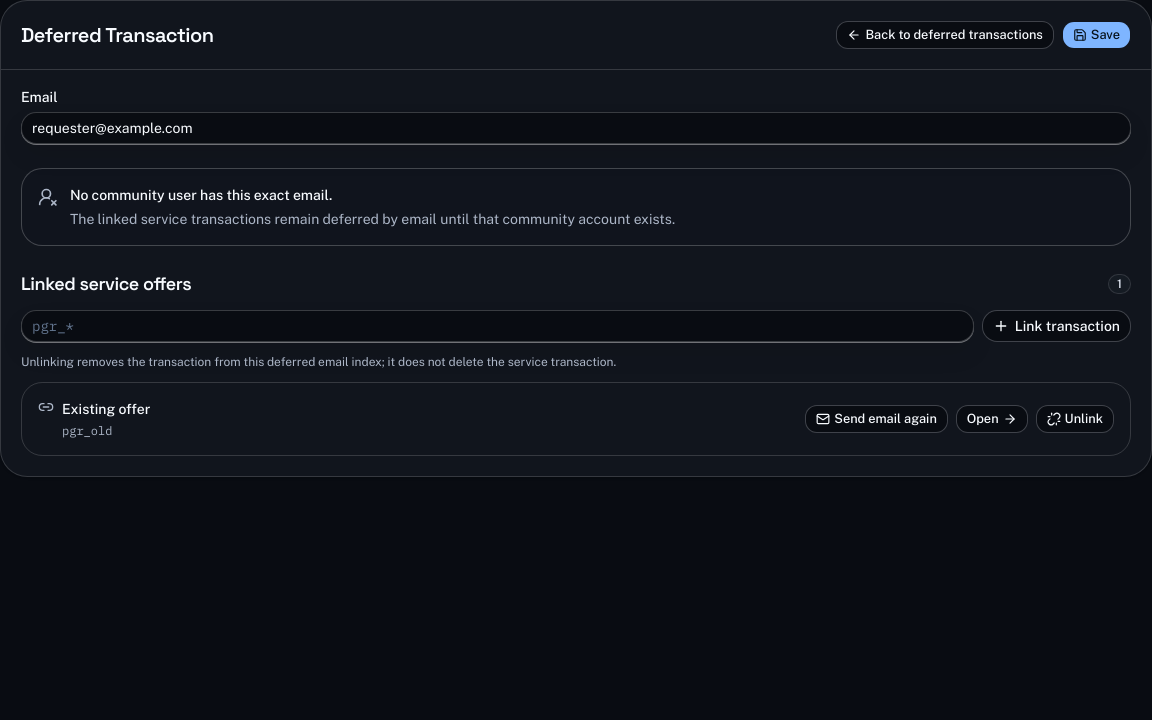
Test case: deferred service transaction workbenches › marks a newly added unsaved link until its service offer name can be loaded
Check: the text "Existing offer" is shown, box x1=62 y1=399 x2=150 y2=419
In the field with placeholder "pgr_*": (497, 326) x1=21 y1=310 x2=974 y2=342, type "pgr_new"
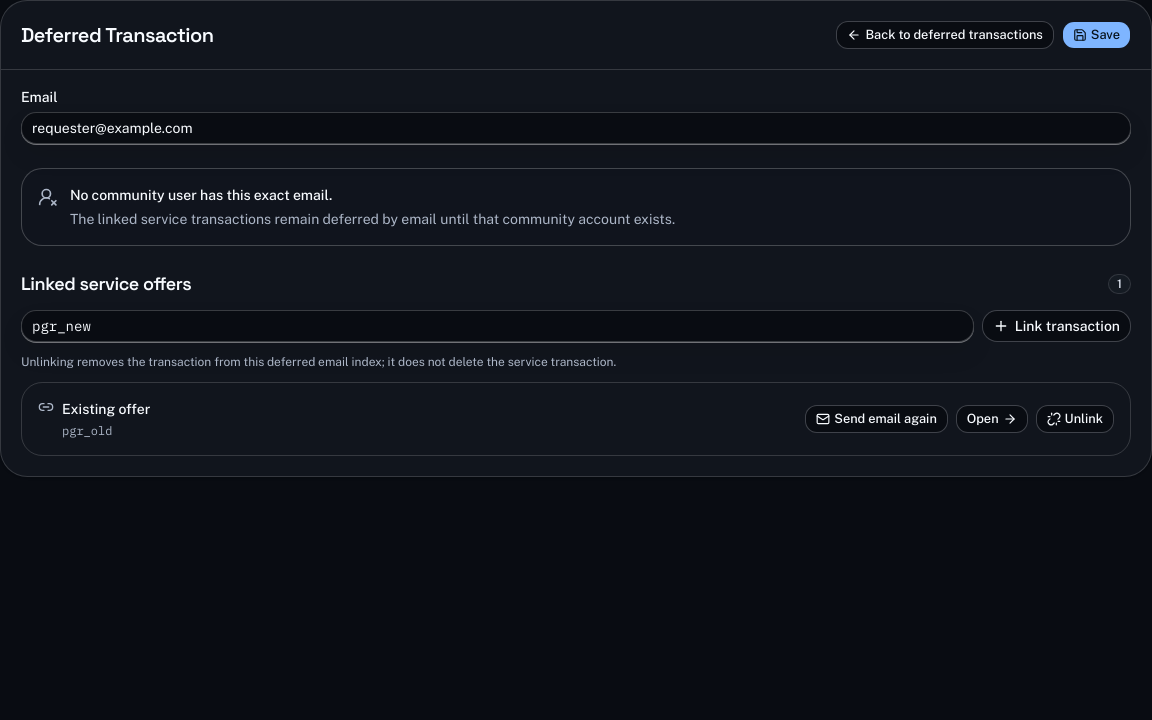
Click the button "Link transaction": (1056, 326) x1=982 y1=310 x2=1131 y2=342
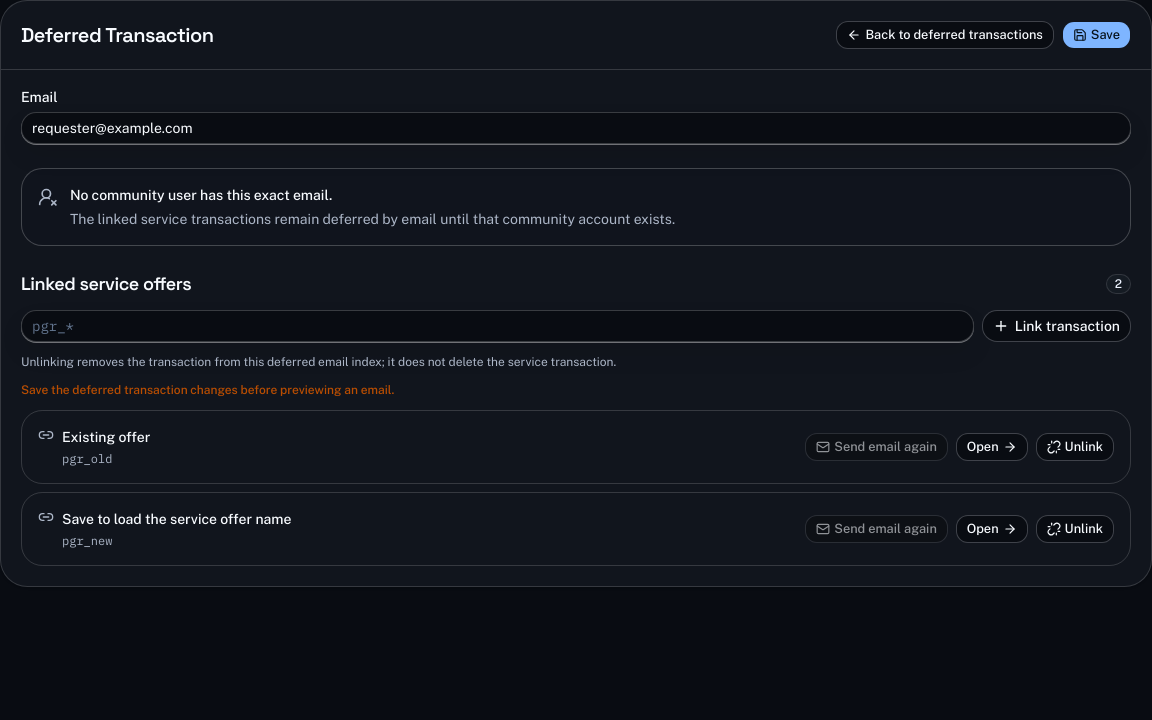
Check: the button with aria-label "Send email again: pgr_new" is disabled, box x1=805 y1=515 x2=948 y2=543
